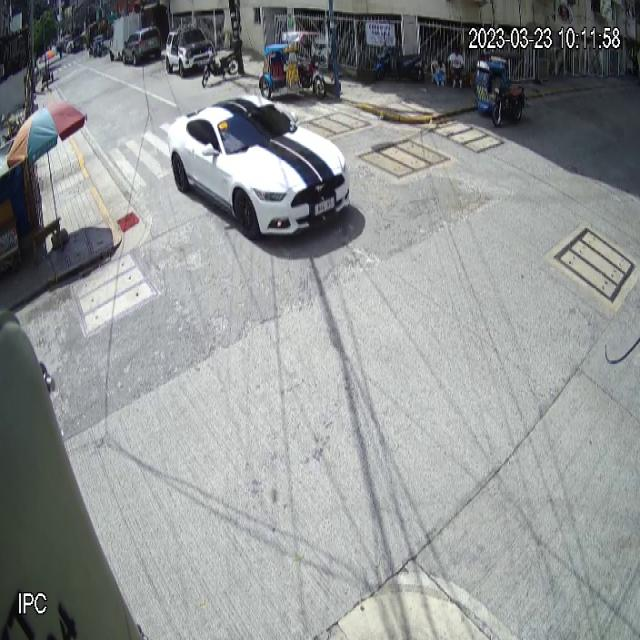Car: (167, 95, 350, 240)
Tricycle: (258, 31, 327, 101), (475, 51, 529, 127)
